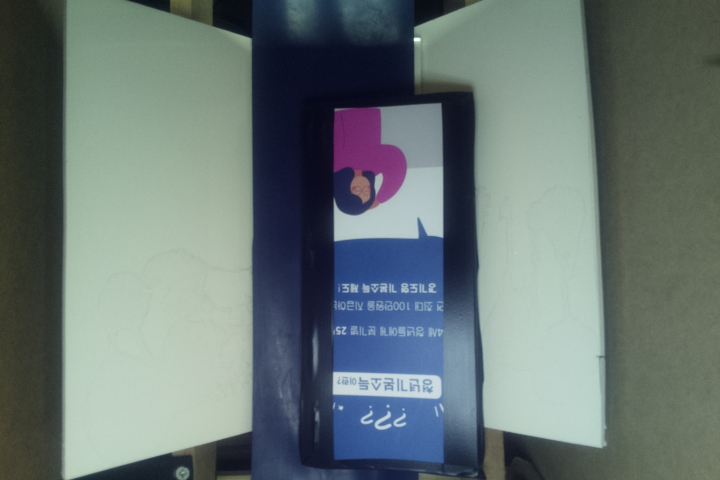book: (297, 90, 479, 469)
